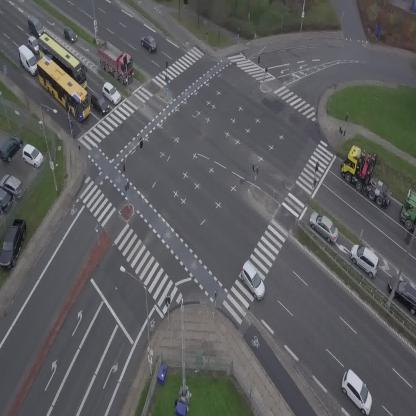bus: (28, 52, 100, 123), (29, 31, 96, 93)
car: (333, 368, 383, 416), (344, 240, 386, 279), (234, 259, 272, 302), (305, 208, 344, 245), (98, 80, 124, 107), (86, 90, 112, 117), (23, 14, 46, 38), (59, 24, 79, 46), (139, 33, 159, 54), (27, 36, 37, 55)
lorry: (333, 141, 409, 210), (88, 35, 142, 87), (12, 43, 43, 79), (401, 191, 416, 231)
